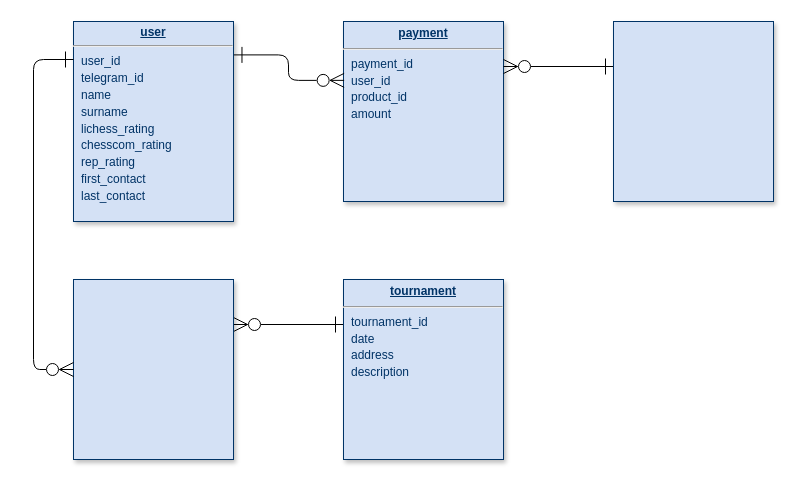
Image size: 797x484. Some labels were removed from this diagram. The shapes that lost their labels are listed below. From the top down, each one's centre as x and y in pixels, then its label:
At pixel 694 112: "product product_id description".
At pixel 154 370: "game game_id tournament_id while_user_id black_user_id round result".
